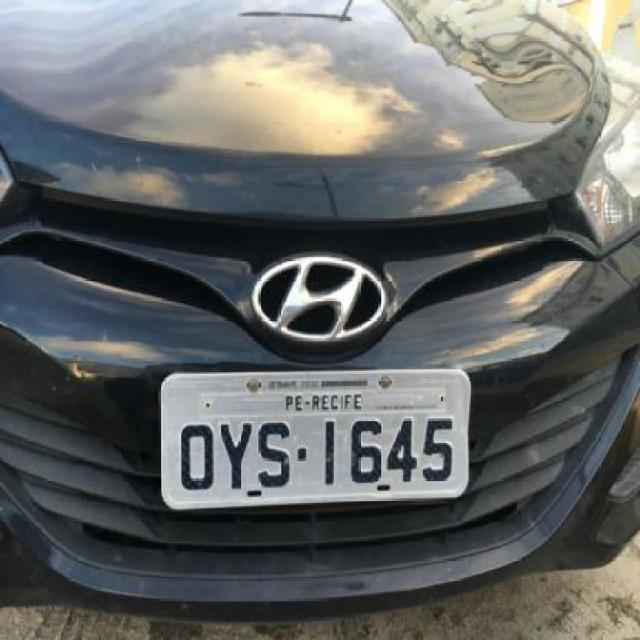old_plate: (150, 361, 478, 514)
